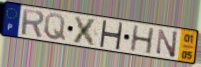H: (98, 19, 125, 51), (129, 25, 156, 56)
N: (156, 28, 179, 59)
Q: (43, 12, 66, 42)
R: (20, 8, 46, 39)
X: (70, 14, 100, 48)
